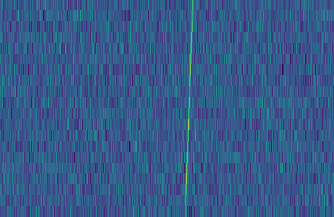signal: (180, 0, 197, 217)
